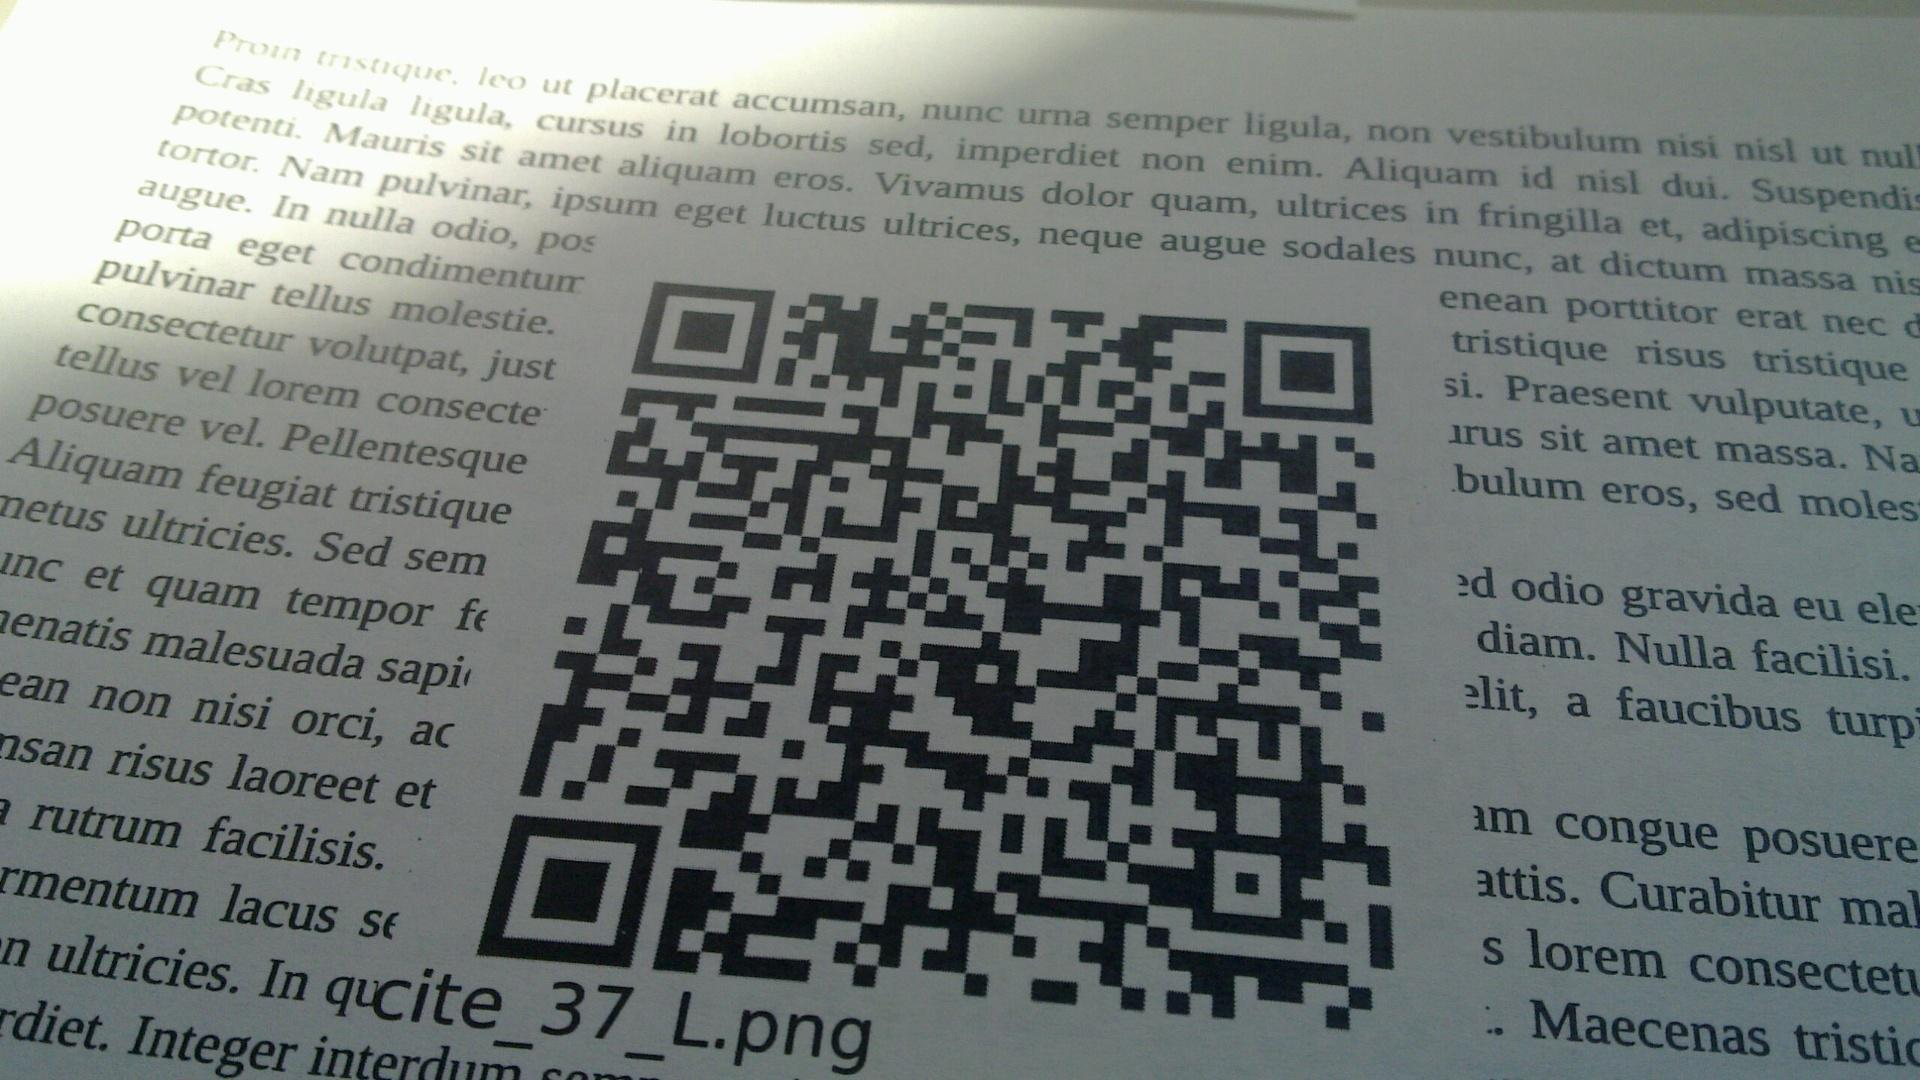Finder pattern: (487, 811, 658, 965), (1234, 314, 1381, 429), (636, 276, 778, 388)
